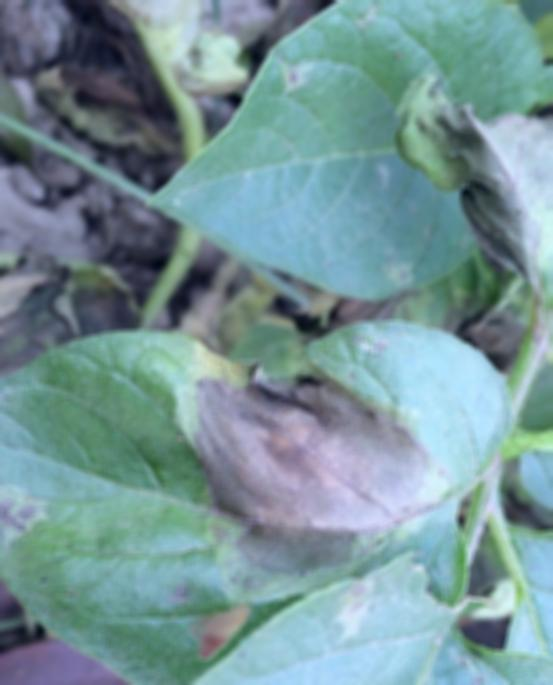Tomato leaf late blight: (155, 305, 536, 546), (404, 79, 553, 312)
